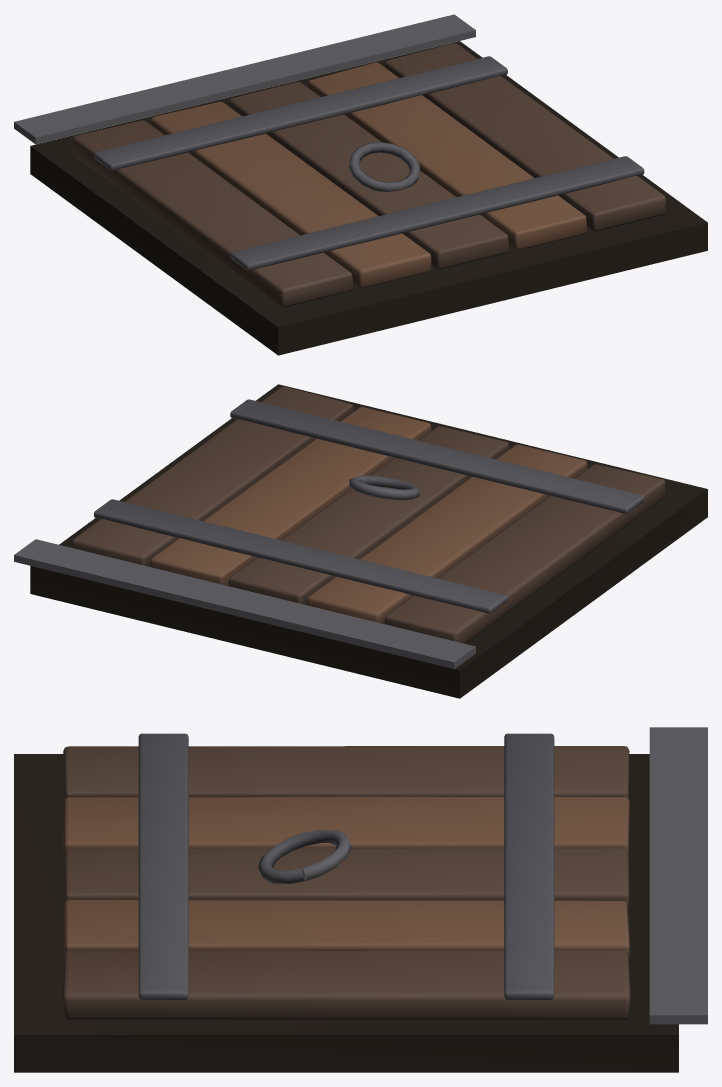
Rendered from kit_trap0.glb.
3 renders of one model, top to bottom at view 1: azimuth 30°, elevation 25°; view 2: azimuth 150°, elevation 25°; view 3: azimuth 270°, elevation 25°, orthographic. The views are drawn at different scales.
Visible parts, largest first — view 1: kit_trap0; view 2: kit_trap0; view 3: kit_trap0.
Part boxes in pixels (x1=…): kit_trap0: x1=14, y1=14, x2=707, y2=355; kit_trap0: x1=14, y1=384, x2=707, y2=698; kit_trap0: x1=14, y1=727, x2=707, y2=1072.
Size of the model in its own units: 0.82 by 0.1234 by 0.835.
